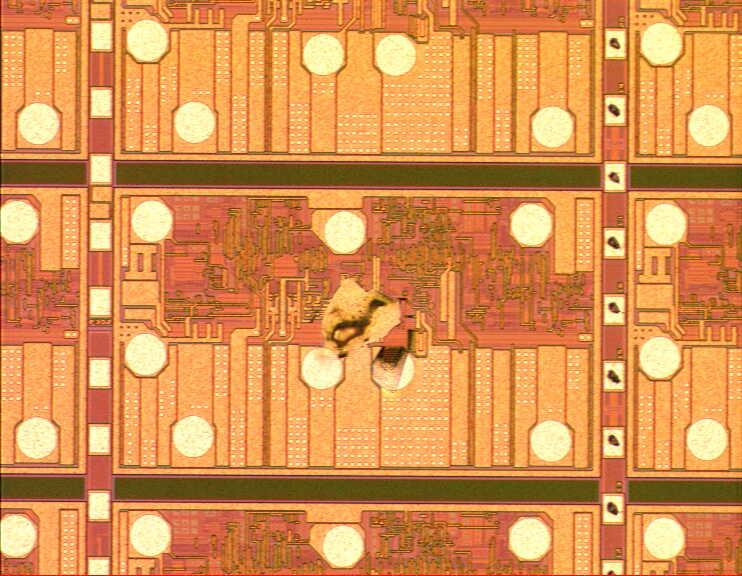BLOCK ETCH: (311, 264, 421, 399)
